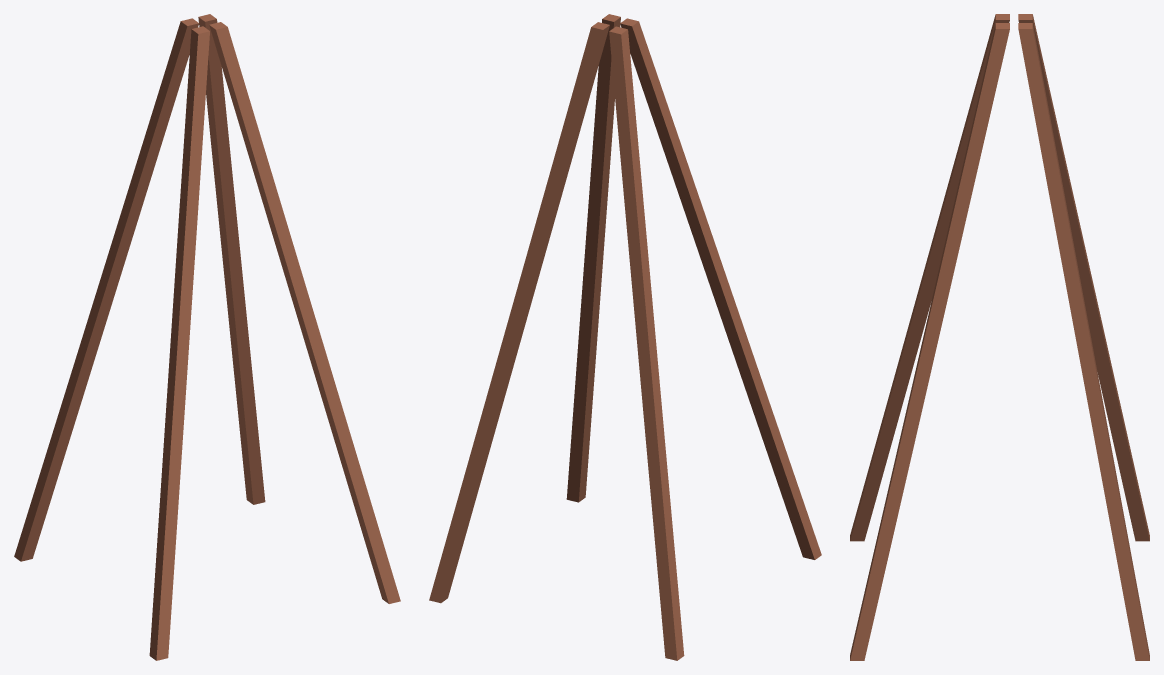
Rendered from RopeColliders.fbx.
3 renders of one model, left to right at view 1: azimuth 30°, elevation 25°; view 2: azimuth 150°, elevation 25°; view 3: azimuth 270°, elevation 25°, orthographic. The views are drawn at different scales.
Parts seen in each view (by area): view 1: FLcollider, RLCollider, FRCollider, RRCollider; view 2: FRCollider, RRCollider, FLcollider, RLCollider; view 3: RLCollider, RRCollider, FLcollider, FRCollider.
Part boxes in pixels (x1=…): FLcollider: x1=149, y1=26, x2=209, y2=660; RLCollider: x1=209, y1=22, x2=400, y2=603; FRCollider: x1=14, y1=18, x2=198, y2=561; RRCollider: x1=198, y1=14, x2=265, y2=504; FRCollider: x1=609, y1=26, x2=684, y2=660; RRCollider: x1=429, y1=22, x2=609, y2=603; FLcollider: x1=620, y1=18, x2=821, y2=559; RLCollider: x1=566, y1=14, x2=620, y2=502; RLCollider: x1=850, y1=23, x2=1009, y2=660; RRCollider: x1=1018, y1=23, x2=1149, y2=660; FLcollider: x1=850, y1=14, x2=1009, y2=541; FRCollider: x1=1018, y1=14, x2=1149, y2=541.
Bounding box in the file's own units: 323 × 694 × 326.
